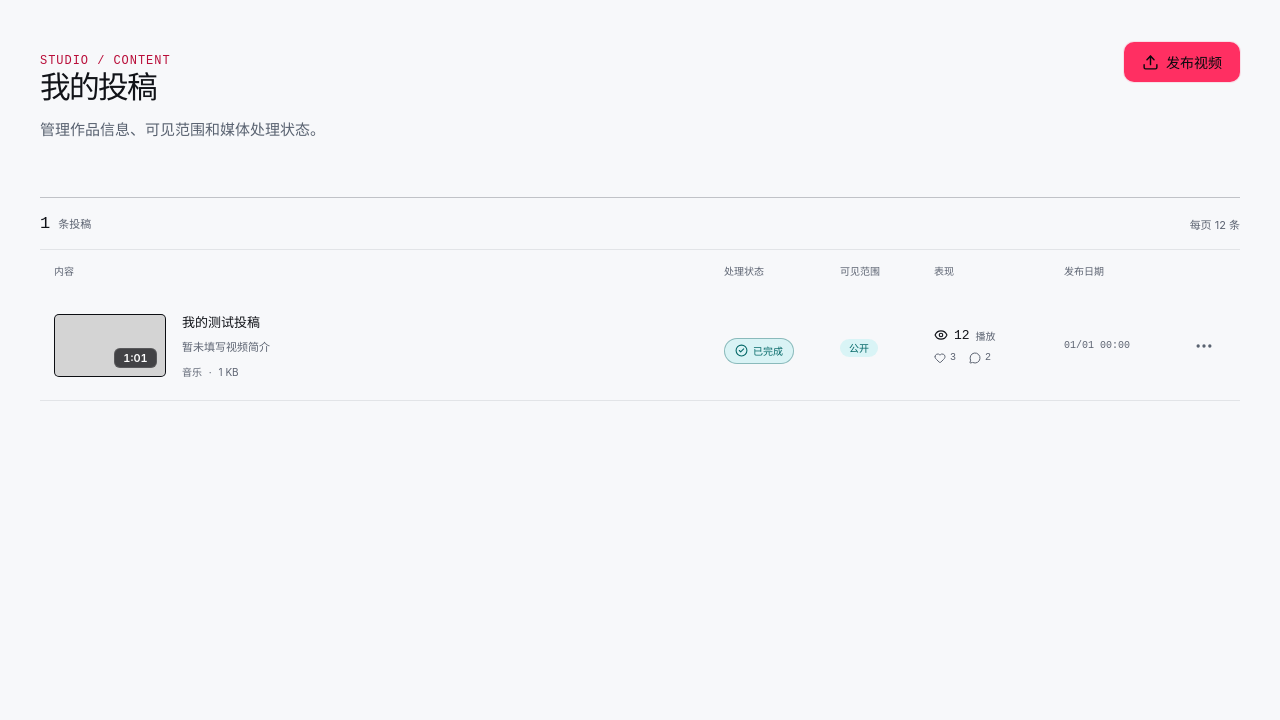
MyVideosPage workflow › edit sends the same FormData fields and reports success
The width and height of the screenshot is (1280, 720).
Click the button named "我的测试投稿的操作菜单" at (1204, 346), box 1182,324 -> 1226,368
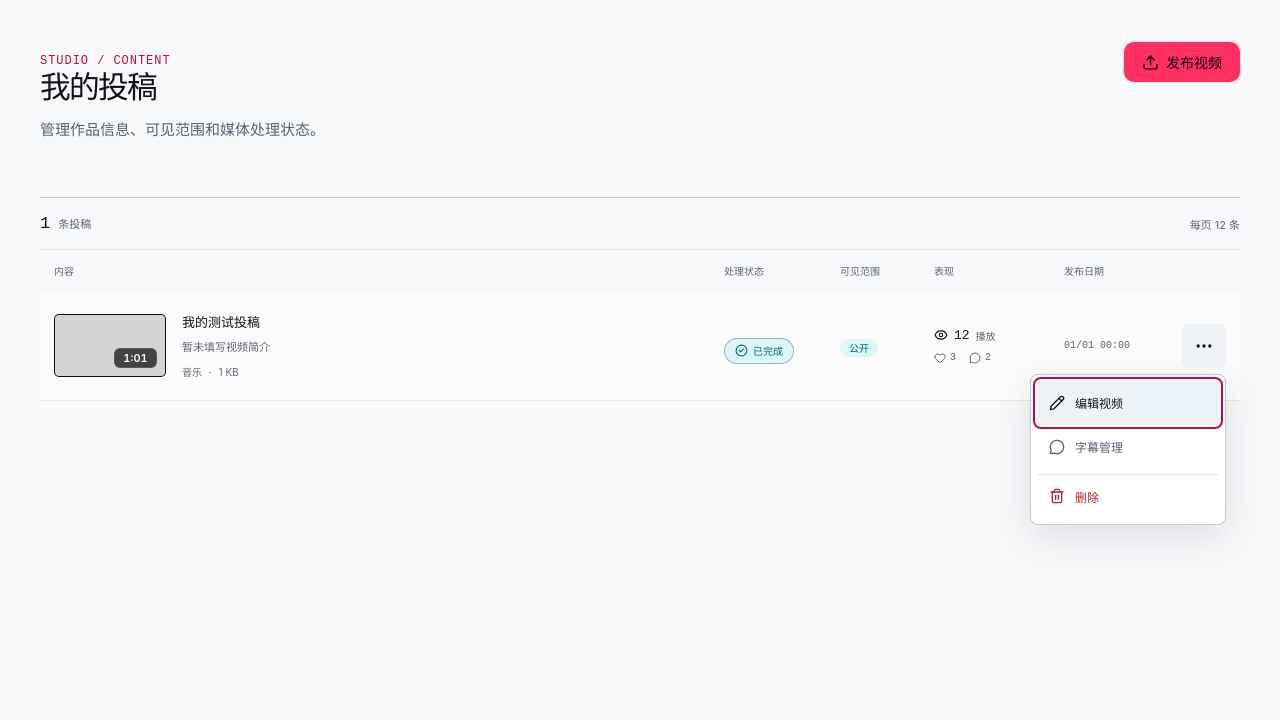
Click the menu item "编辑视频" at (1128, 403), box 1037,381 -> 1219,425
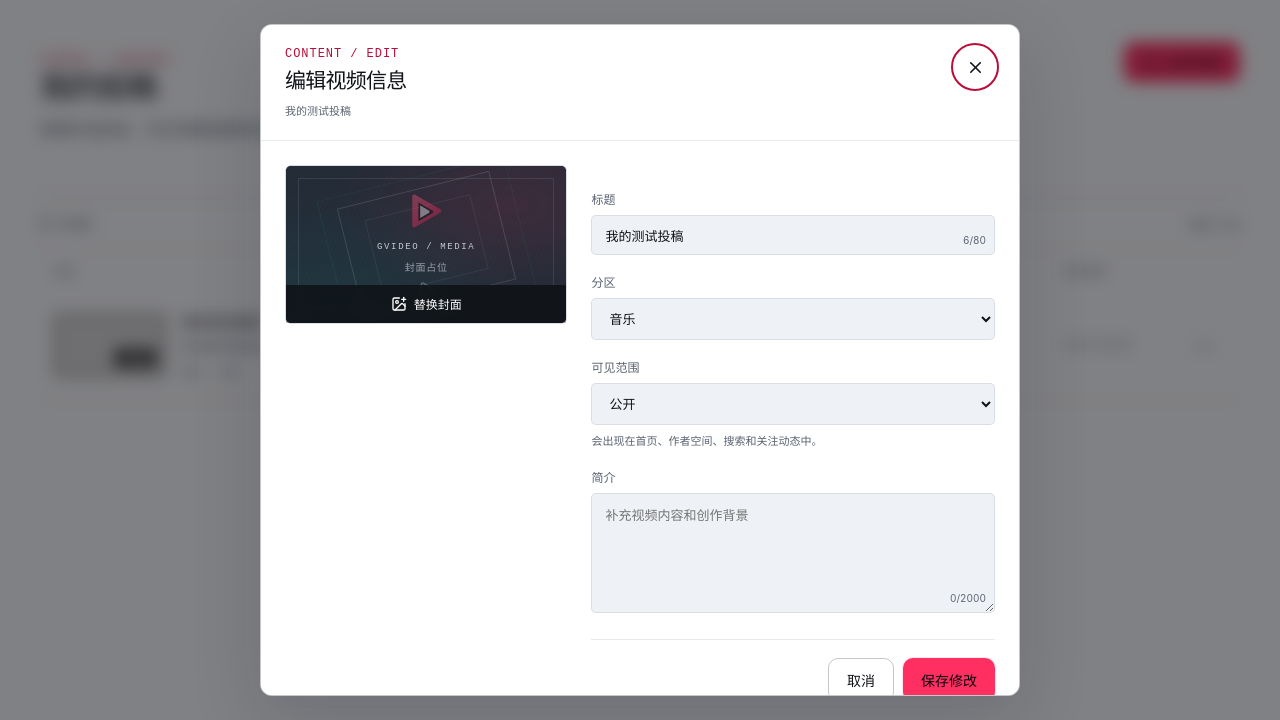
Replace the text in the field labelled "标题 6/80" with "修改后的标题" at (793, 235), box 592,215 -> 995,255
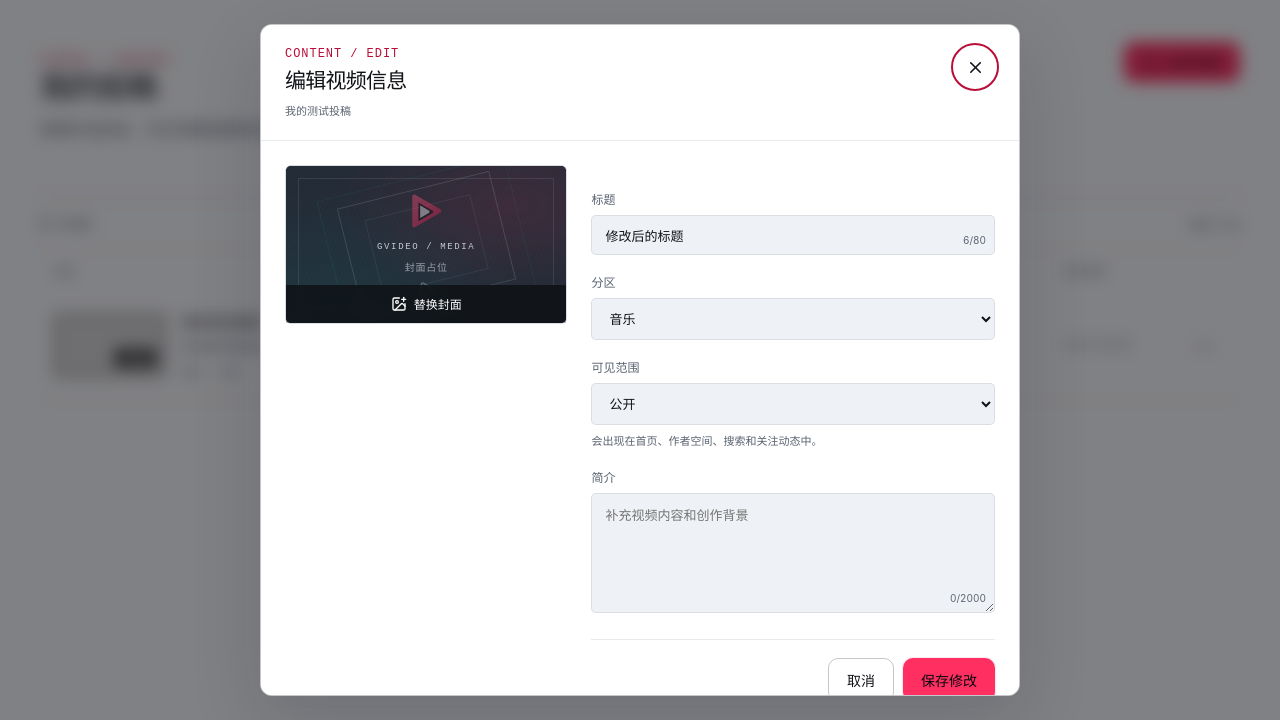
Click the button "保存修改" at (949, 680), box 903,658 -> 995,702
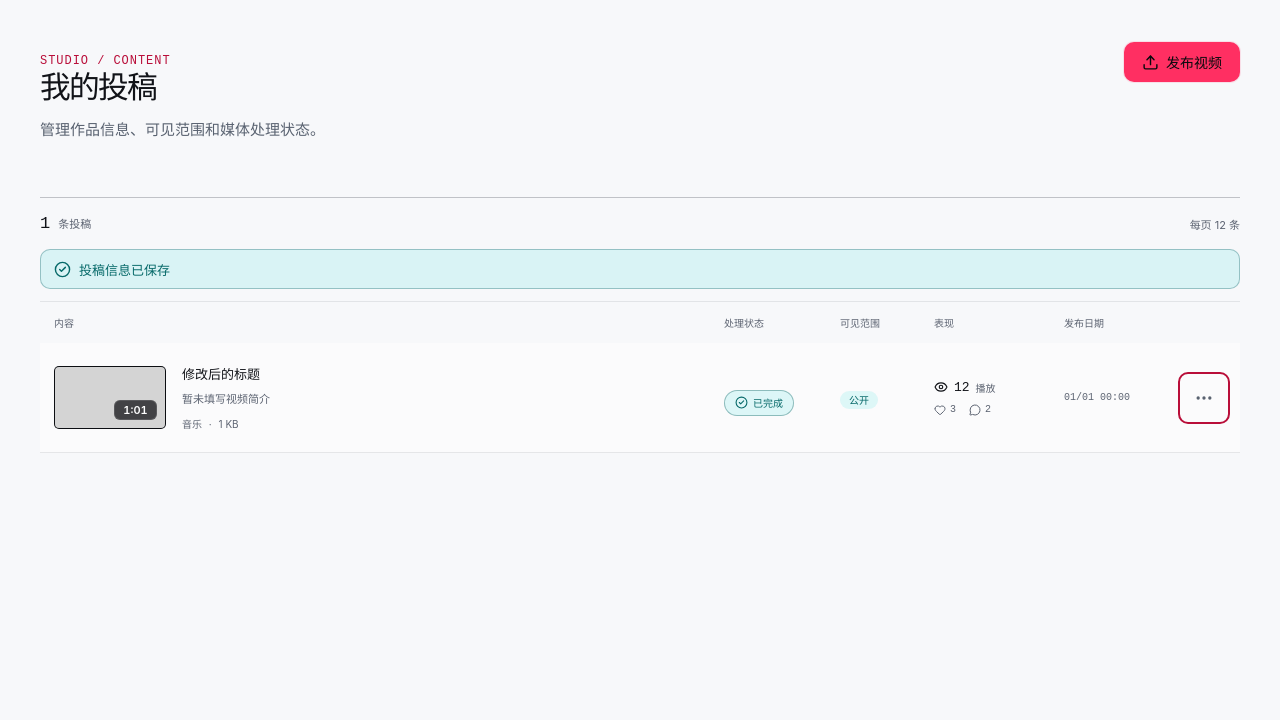
Expected: the text "投稿信息已保存" is shown, 40,249 -> 1240,289
Expected: the link "修改后的标题" is shown, 182,366 -> 260,382
